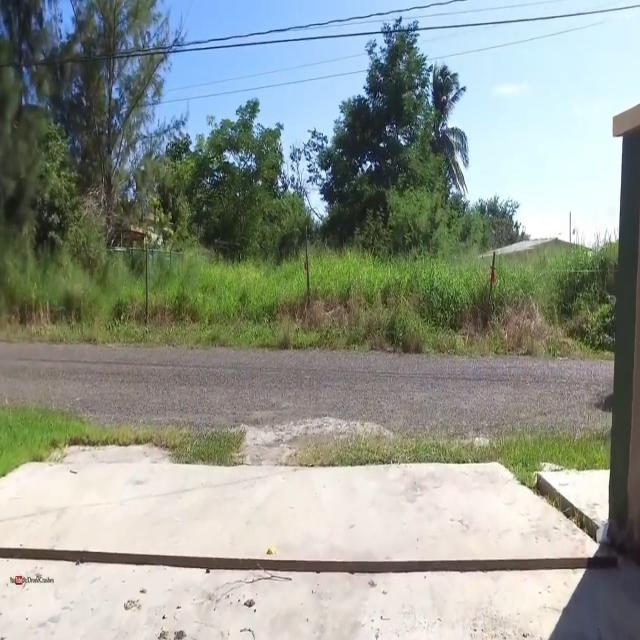Building: (610, 106, 640, 554)
Pole: (486, 248, 500, 312), (302, 221, 312, 303), (142, 236, 152, 312)
